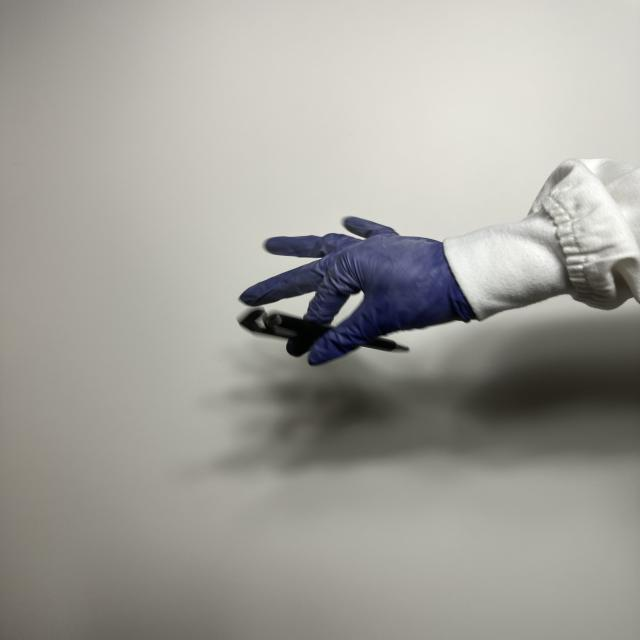gloves_contaminated: (240, 216, 476, 364)
